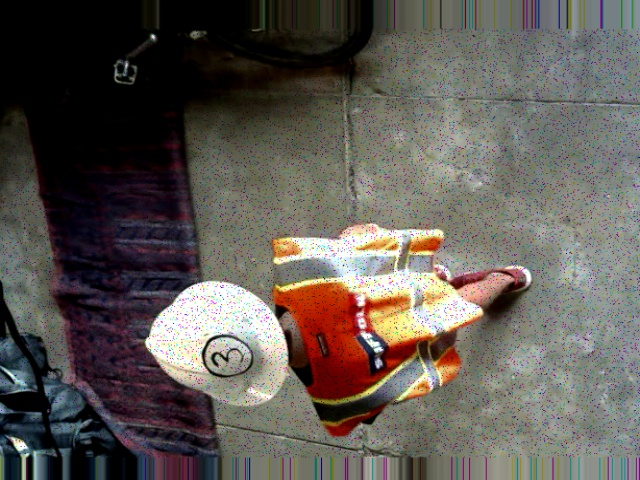three: (197, 332, 254, 376)
